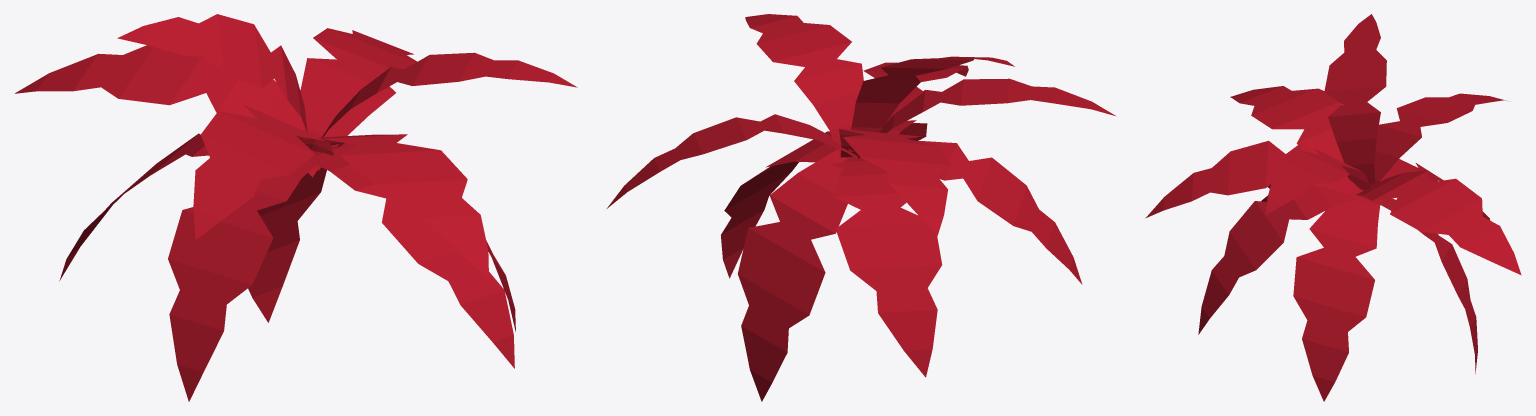
File: tree-dead-leaves-035.glb
3 renders of one model, left to right at view 1: azimuth 30°, elevation 25°; view 2: azimuth 150°, elevation 25°; view 3: azimuth 270°, elevation 25°, orthographic. The views are drawn at different scales.
Parts seen in each view (by area): view 1: Plane.076_487; view 2: Plane.076_487; view 3: Plane.076_487.
Boxes of the visible parts, x1,y1,x2,y2 form: Plane.076_487: (15,14,577,401); Plane.076_487: (607,14,1115,401); Plane.076_487: (1145,14,1521,401).
Bounding box in the file's own units: 1.43 × 1.33 × 1.59.
